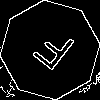F: (25, 25, 78, 80)
